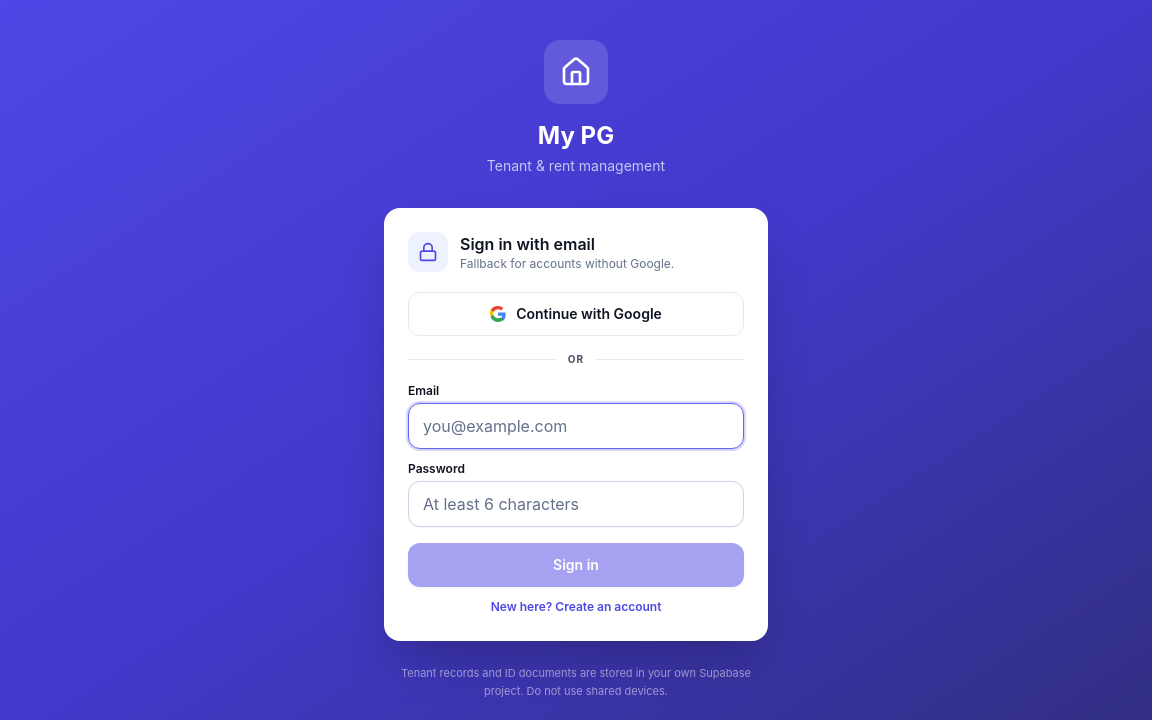
App › rejects a wrong password
Type "owner@example.com" into the field labelled "Email" at point(576, 426), box [408,403,744,449]
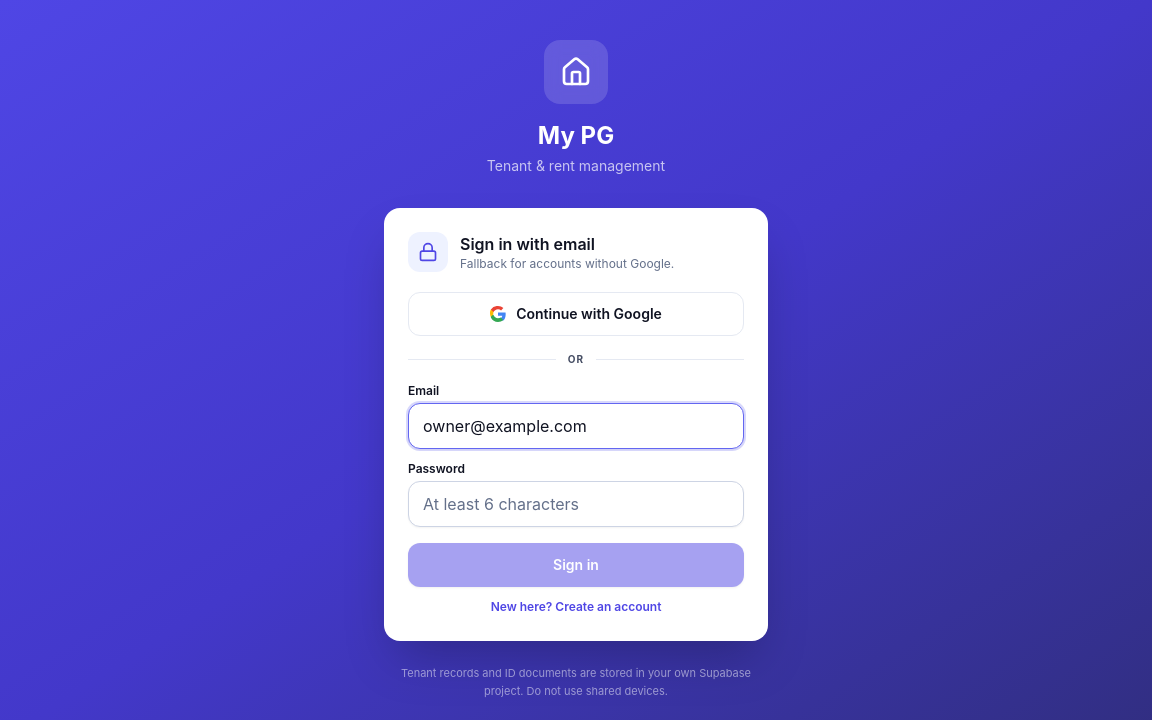
Type "wrongpass" into the password field labelled "Password" at point(576, 504), box [408,481,744,527]
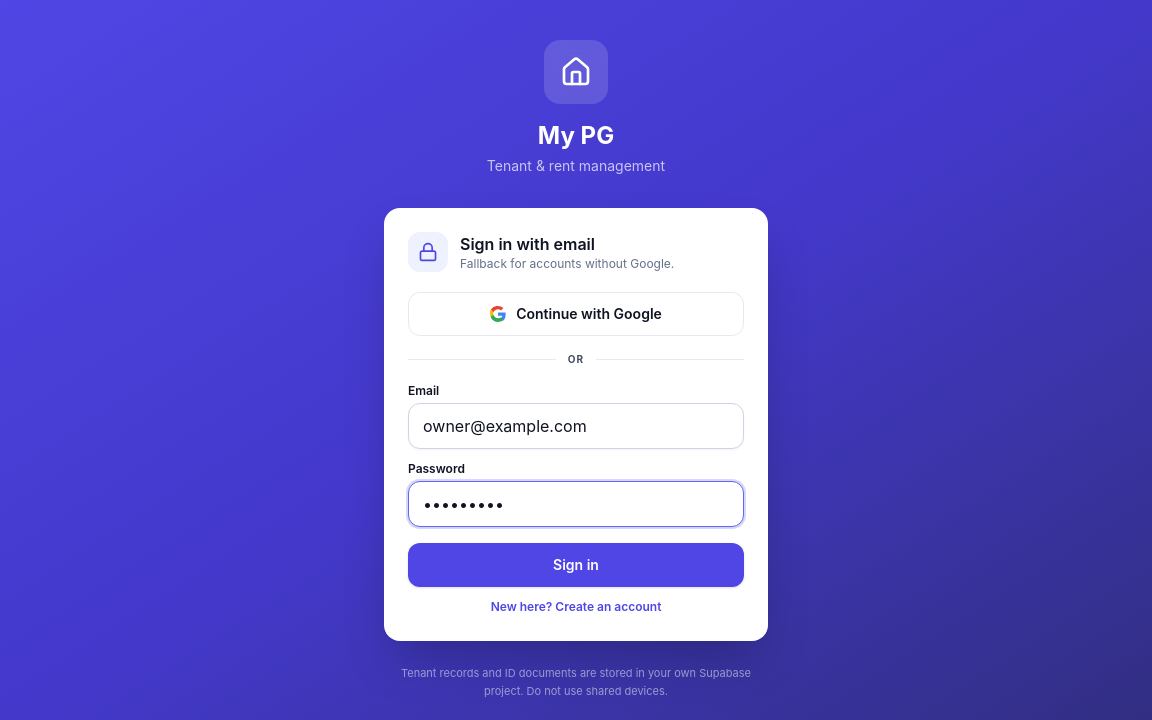
Click the button "Sign in" at point(576, 565), box [408,543,744,587]
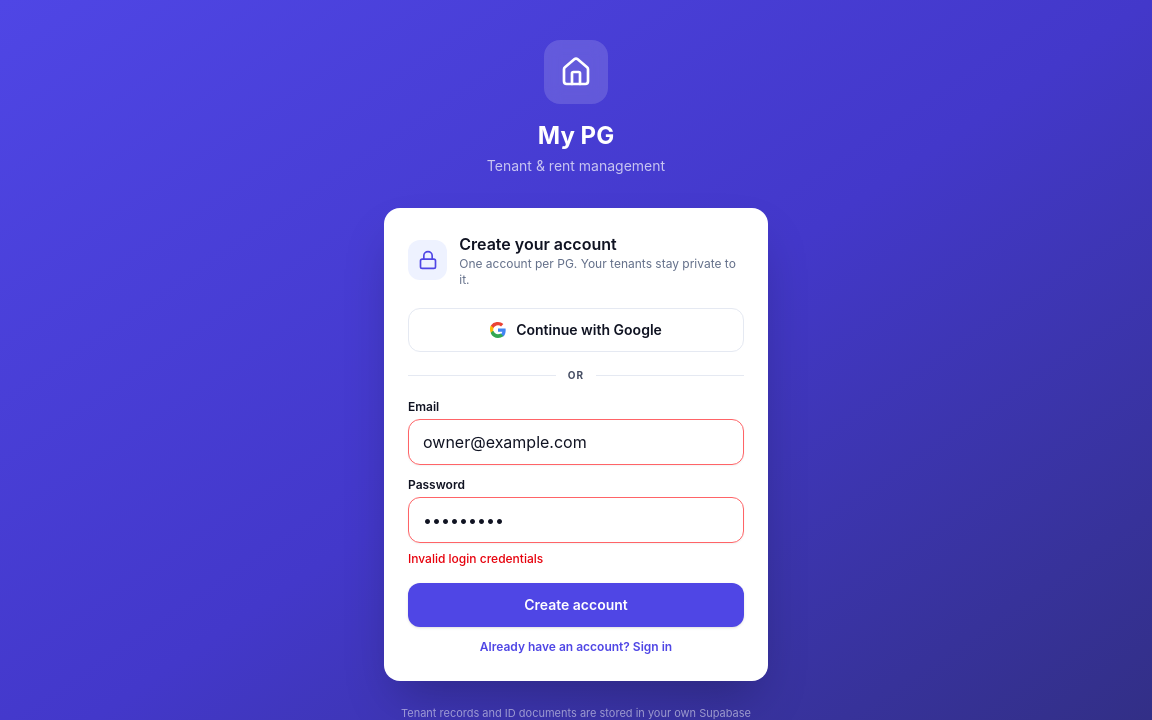
Check: the text "Invalid login credentials" is shown, box [408,551,543,566]
